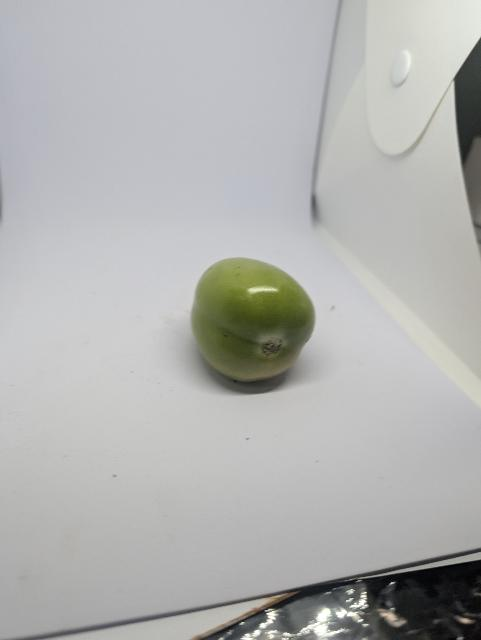green: (169, 245, 335, 400)
